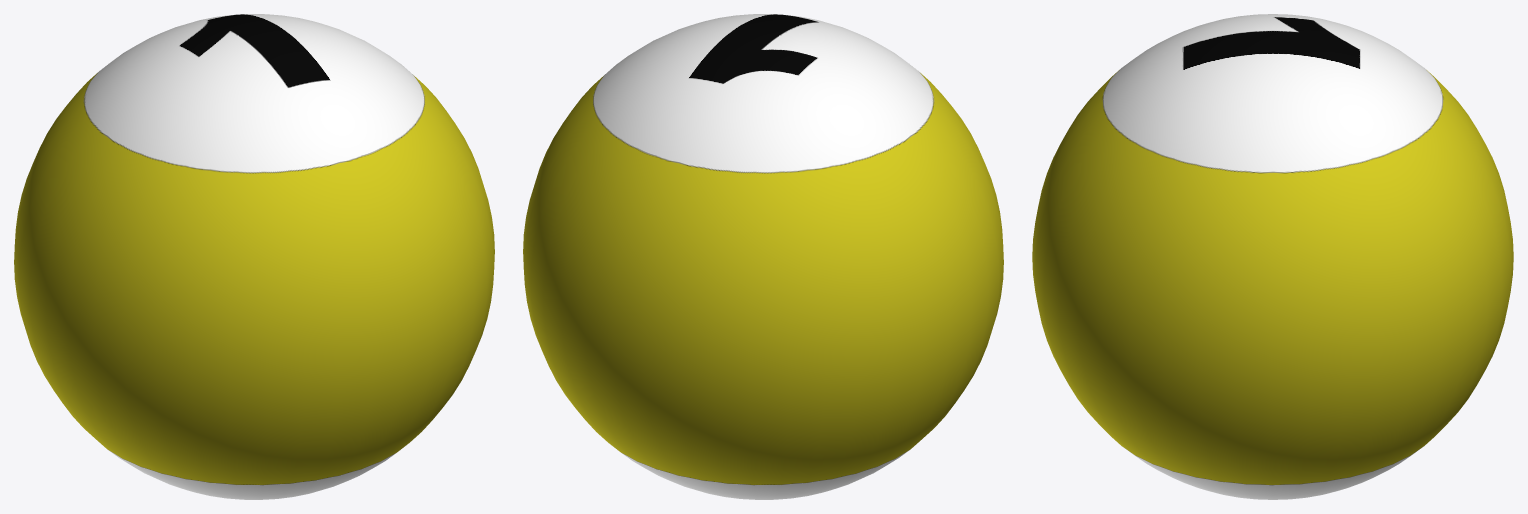
3 views of the same model, side by side, from view 1: azimuth 30°, elevation 25°; view 2: azimuth 150°, elevation 25°; view 3: azimuth 270°, elevation 25° (orthographic).
Visible parts, largest first — view 1: 1-one; view 2: 1-one; view 3: 1-one.
Part boxes in pixels (<box>): 1-one: <box>14,14,494,499</box>; 1-one: <box>523,14,1003,499</box>; 1-one: <box>1032,14,1513,499</box>.
Bounding box in the file's own units: 0.5015 × 0.5088 × 0.5015.
Materials: 1 (1 with a texture image).
